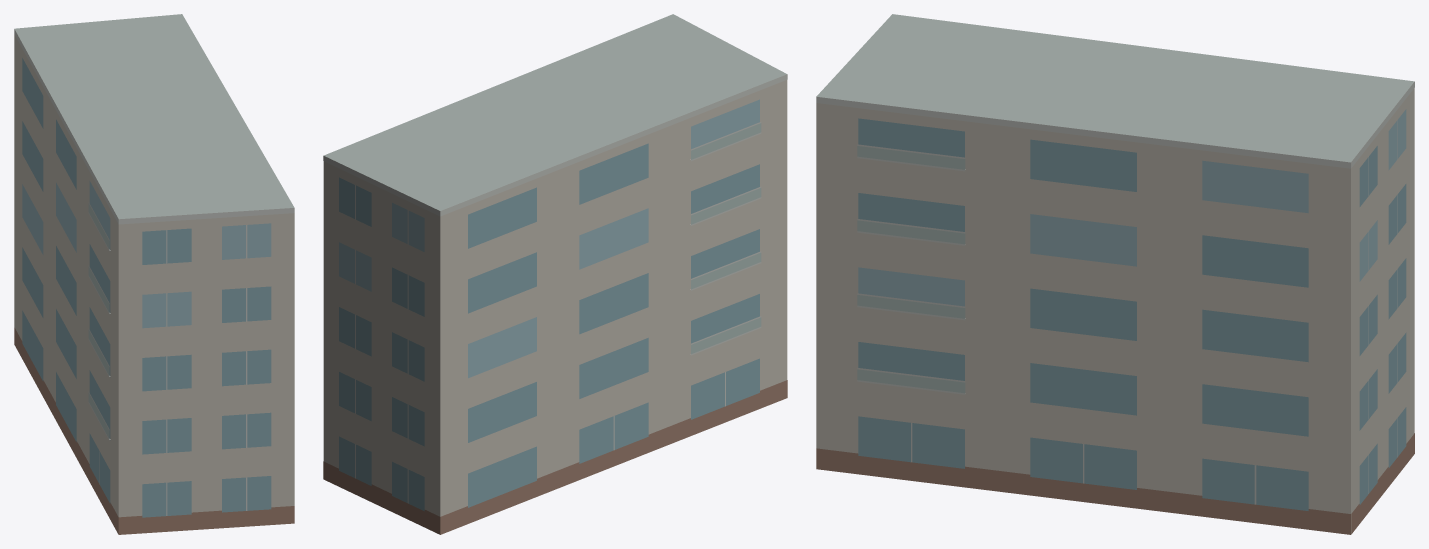
Rendered from survey-upis-32880655.glb.
3 renders of one model, left to right at view 1: azimuth 30°, elevation 25°; view 2: azimuth 150°, elevation 25°; view 3: azimuth 270°, elevation 25°, orthographic. The views are drawn at different scales.
Parts seen in each view (by area): view 1: survey-upis-32880655.tmp; view 2: survey-upis-32880655.tmp; view 3: survey-upis-32880655.tmp.
Part boxes in pixels (x1=…): survey-upis-32880655.tmp: x1=14, y1=14, x2=294, y2=534; survey-upis-32880655.tmp: x1=323, y1=14, x2=787, y2=534; survey-upis-32880655.tmp: x1=816, y1=14, x2=1414, y2=534.
Bounding box in the file's own units: 12.48 × 14.58 × 21.25.
